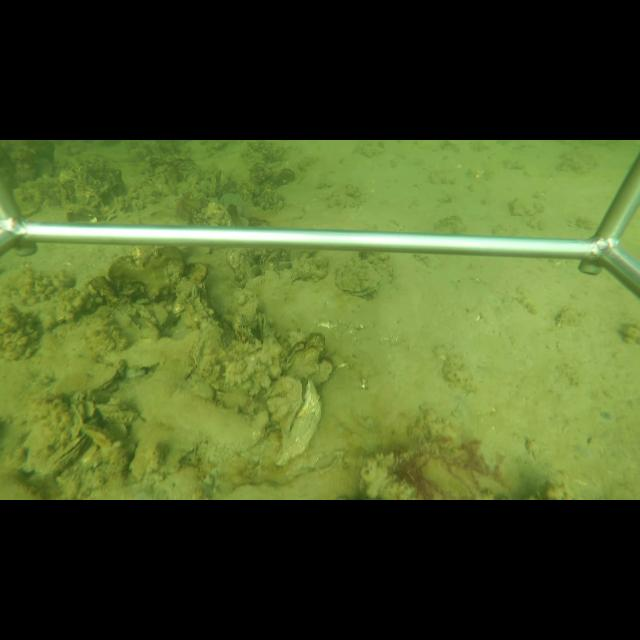Oyster-Closed: (40, 434, 88, 475), (187, 318, 223, 372), (335, 260, 385, 296), (282, 343, 322, 376), (86, 366, 120, 393), (196, 287, 212, 315), (258, 312, 271, 342)
Oyster-Open: (276, 378, 322, 466)
